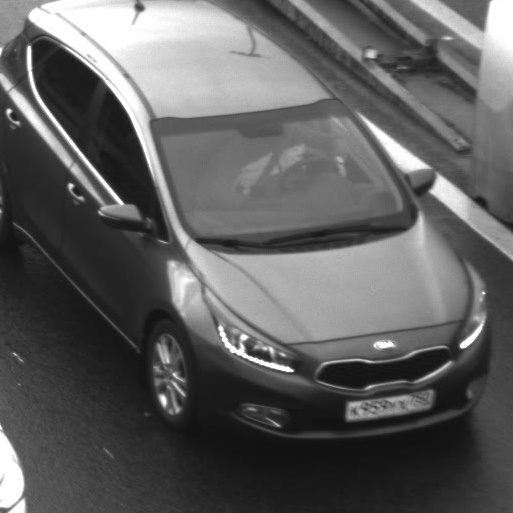plate: (333, 379, 441, 427)
